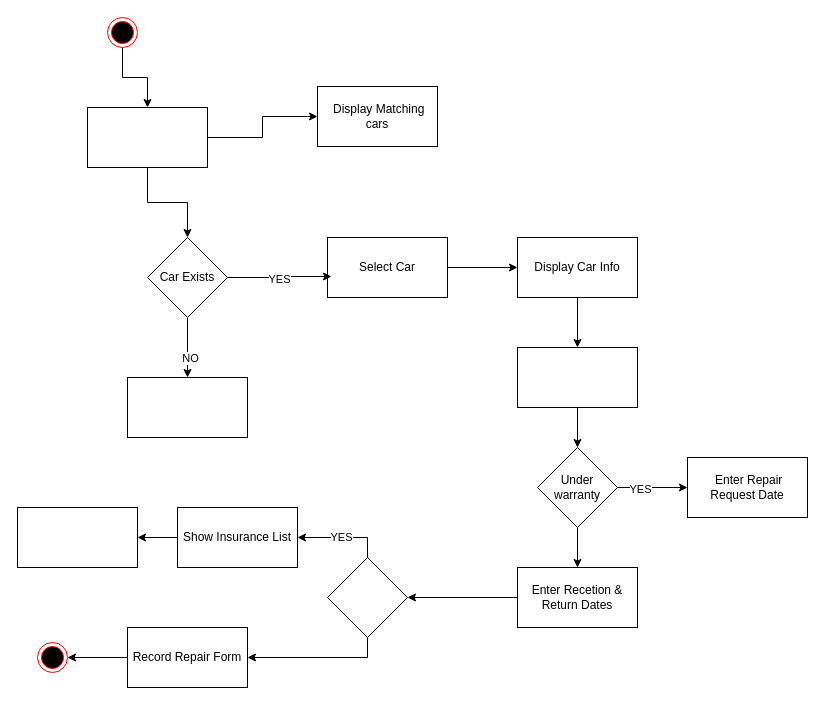
Image size: 825x705. Some labels were removed from this diagram. Each missing label, with the box of its shape:
Check Warranty: (516, 346, 638, 408)
Enter Car Search Criteria: (86, 106, 208, 168)
Enter New Car Info: (126, 376, 248, 438)
Paid By Insurance: (326, 556, 408, 638)
Select Insurance: (16, 506, 138, 568)
